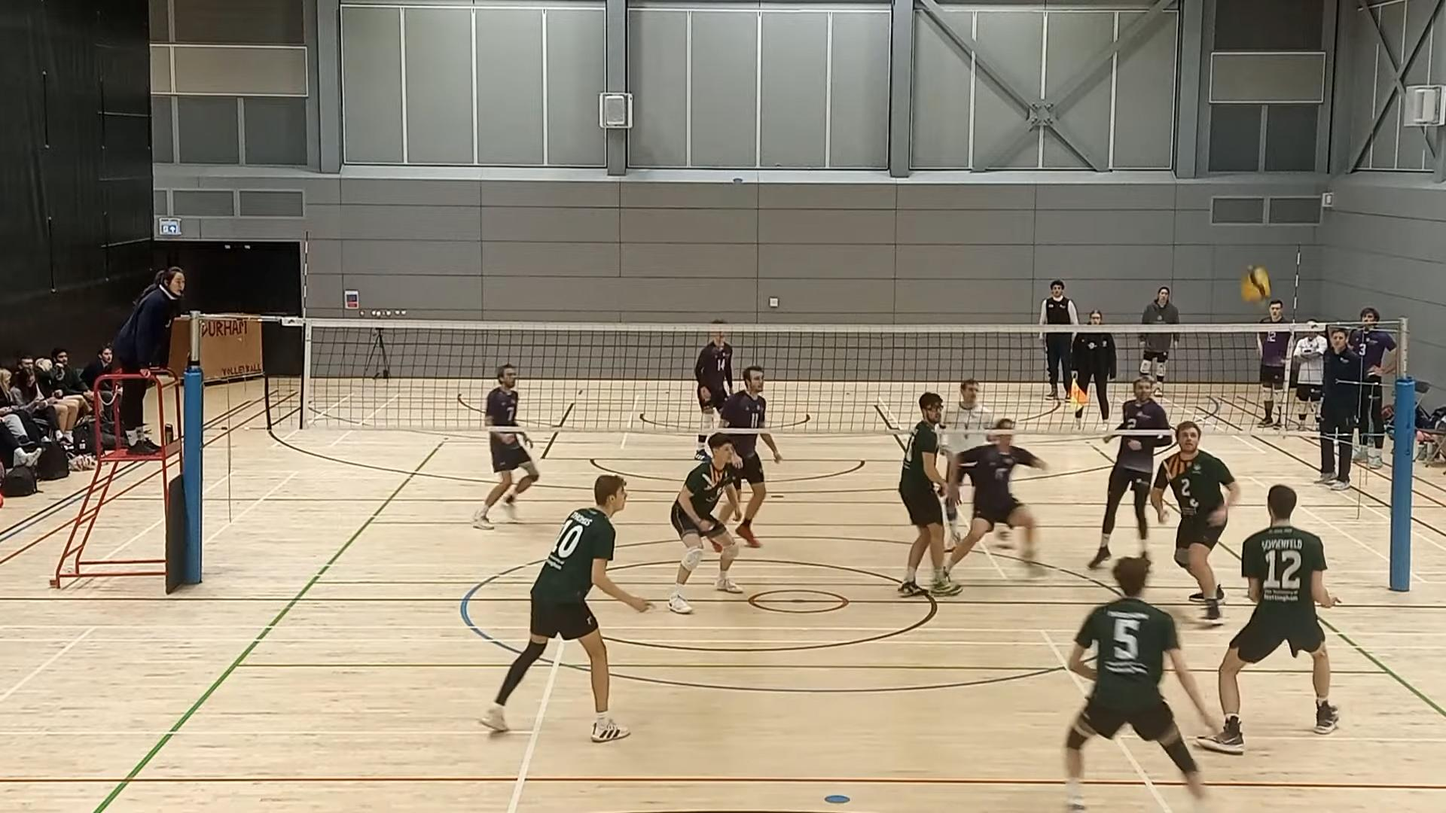difesa: (1200, 481, 1343, 753)
